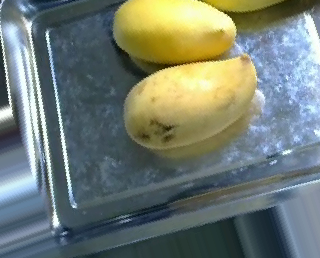Mango: (125, 54, 256, 146), (111, 0, 236, 62)
